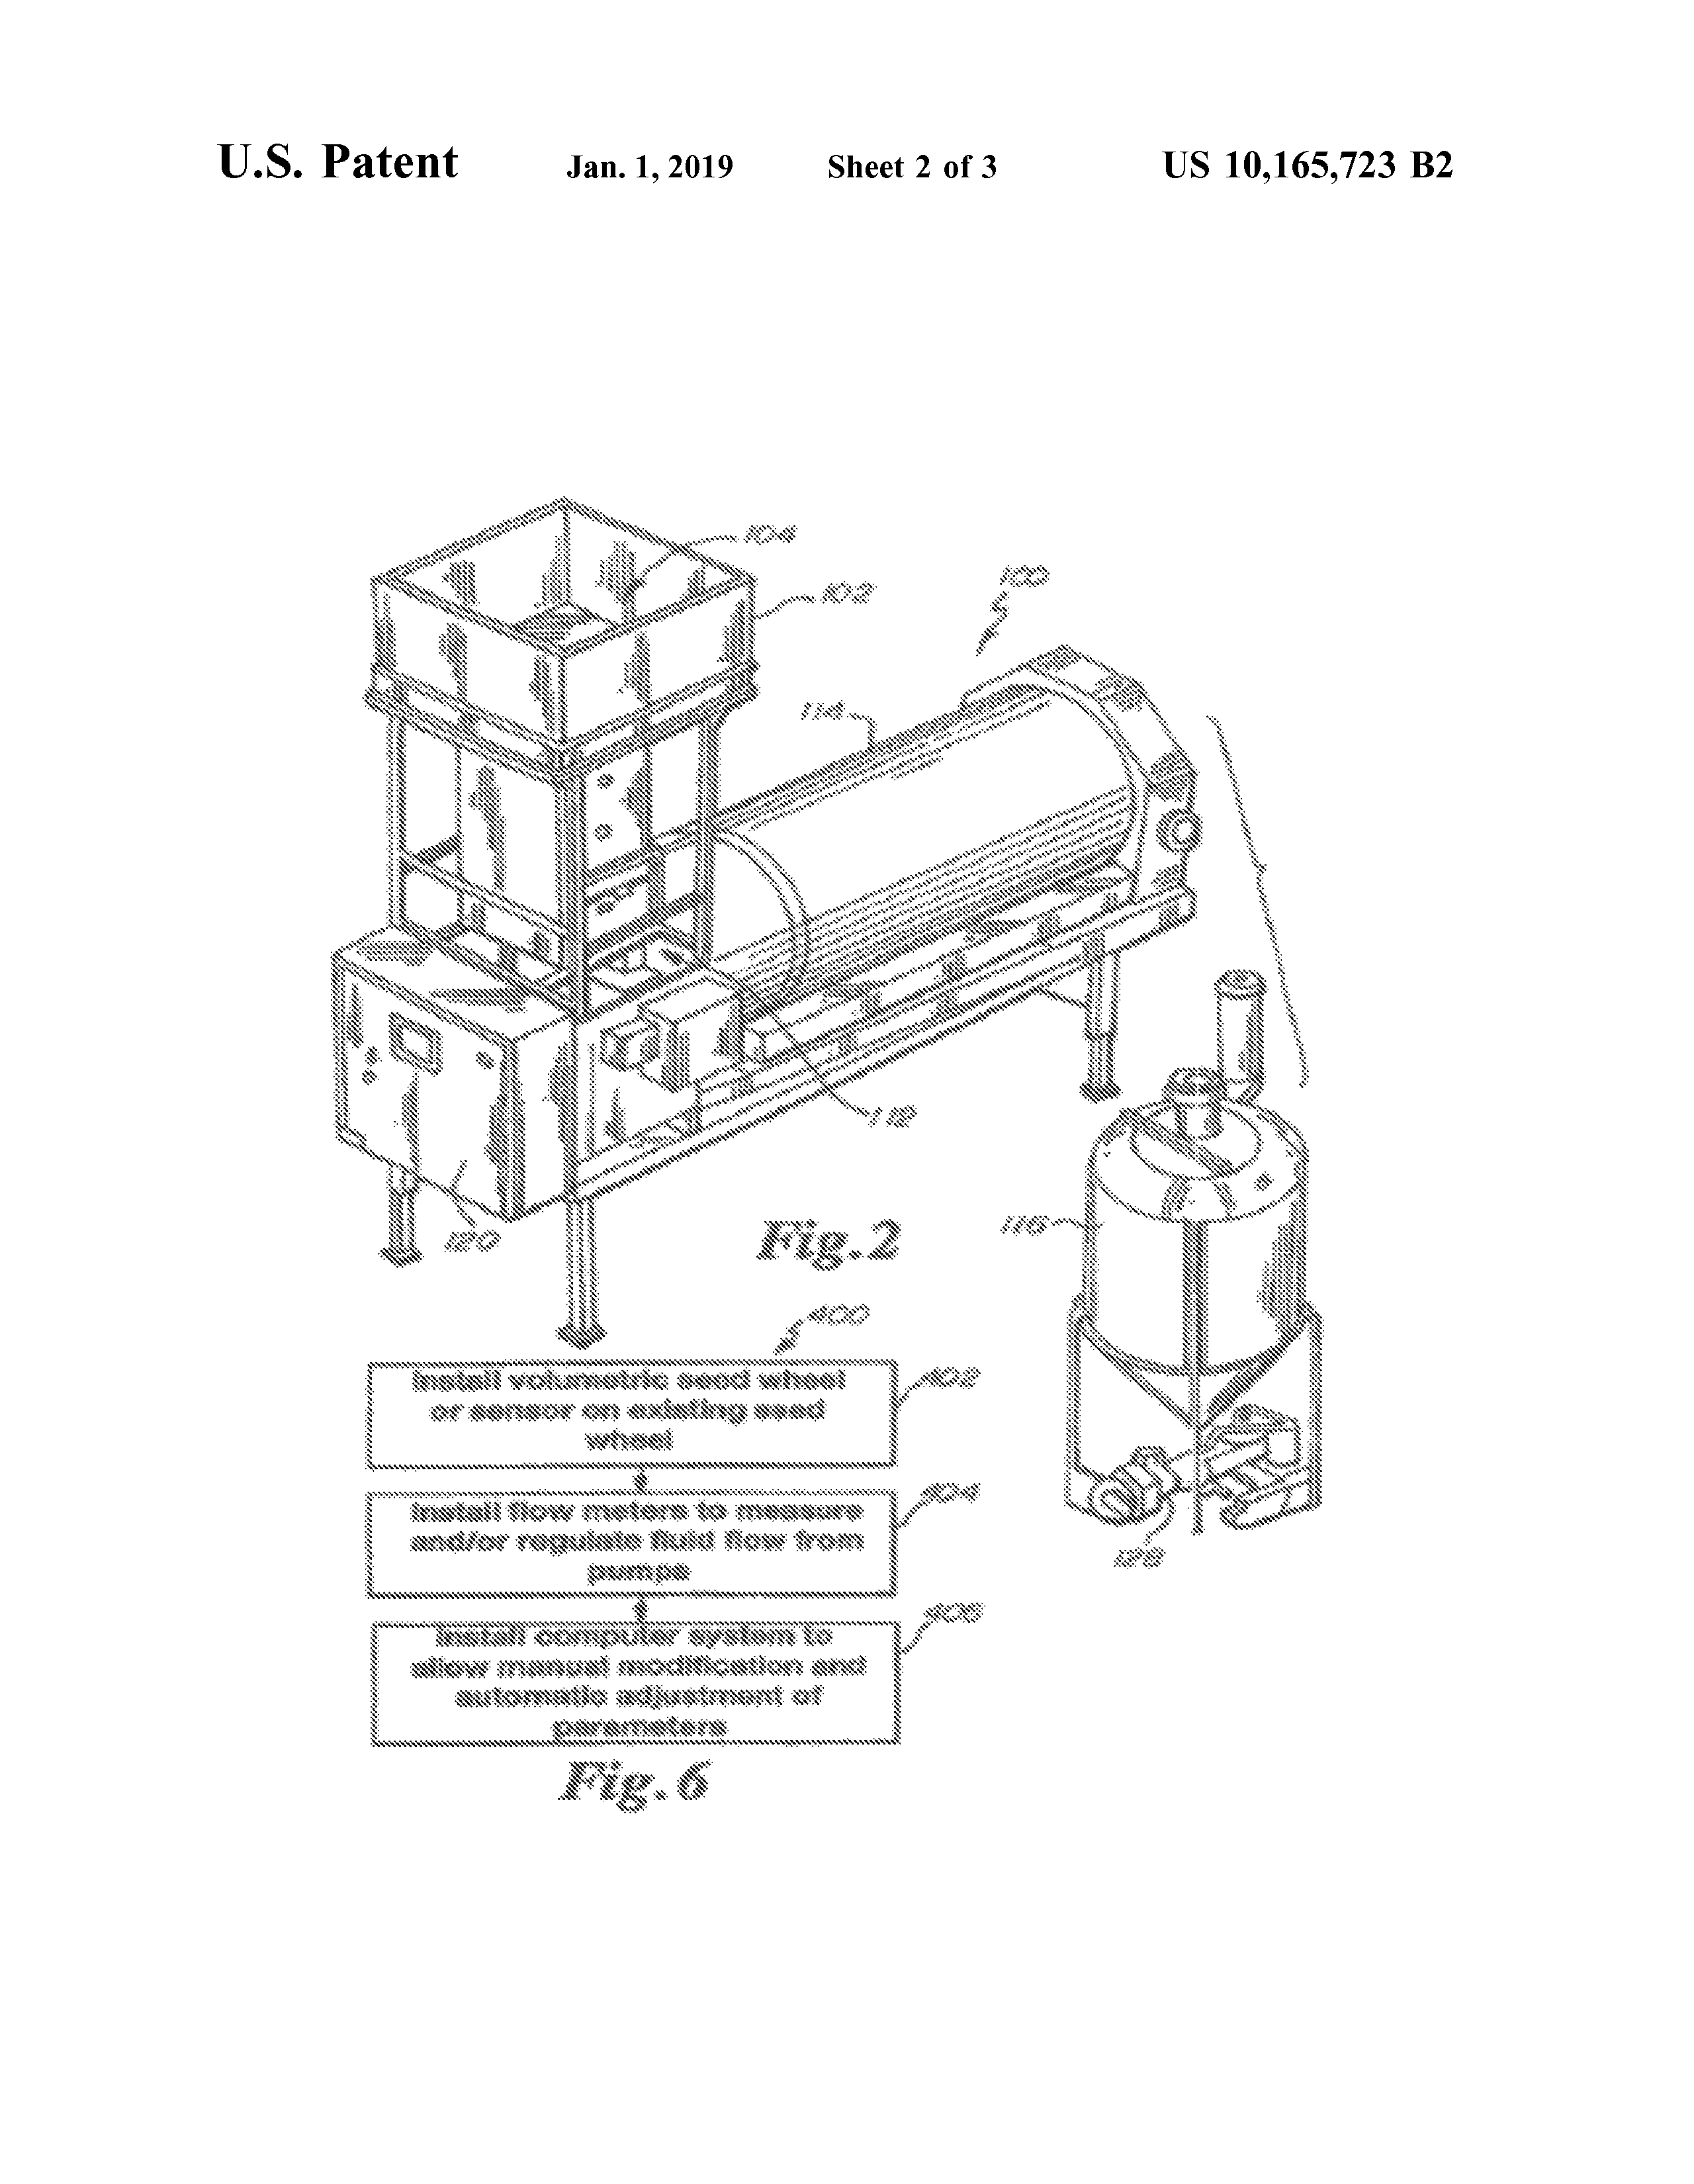patent image: (322, 449, 1343, 1576), (339, 1206, 992, 1841)
